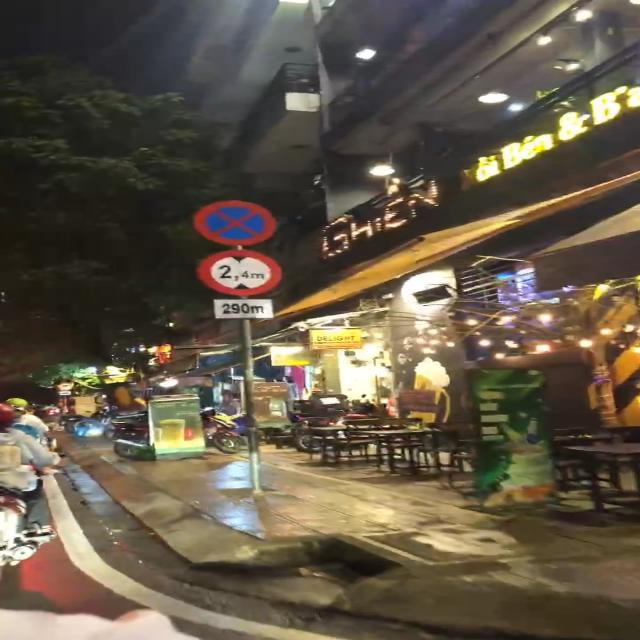Bien bao cam dung xe va do xe: (185, 197, 278, 246)
Bien bao han che chieu cao: (193, 249, 288, 296)
